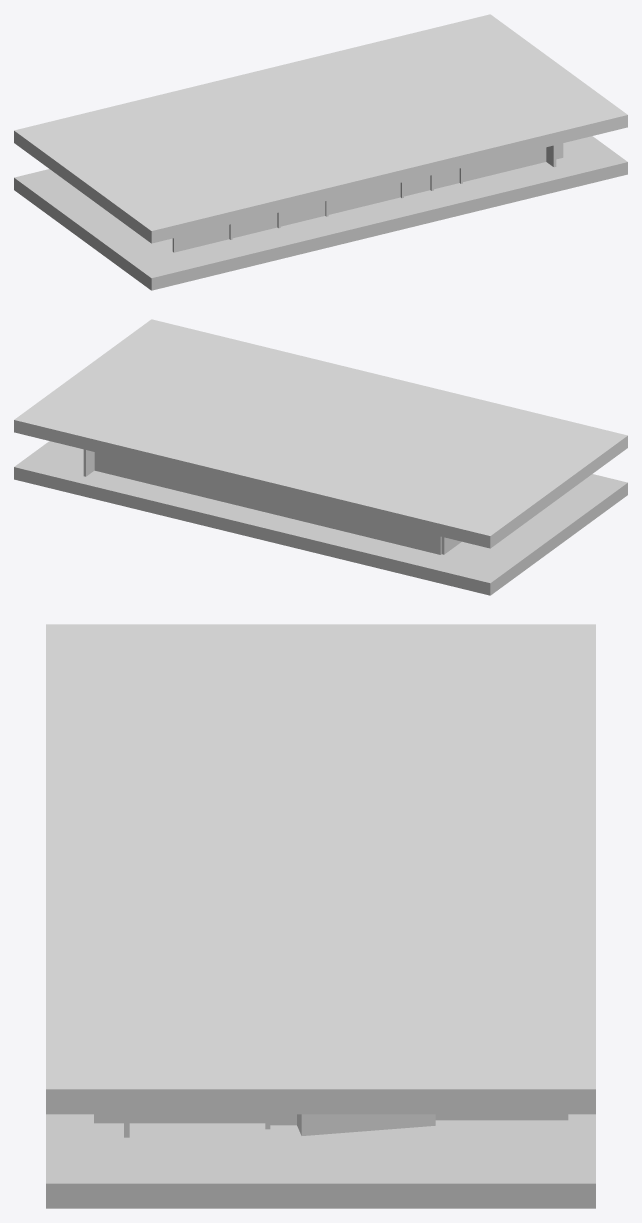
File: TheDen.glb
3 renders of one model, top to bottom at view 1: azimuth 30°, elevation 25°; view 2: azimuth 150°, elevation 25°; view 3: azimuth 270°, elevation 25°, orthographic. The views are drawn at different scales.
Visible parts, largest first — view 1: Roof, Floor, Bottom Wall; view 2: Roof, Floor, Main - Top, Theatrette - Top; view 3: Roof, Floor, Theatrette - Bottom Angled, Right wall, Theatrette - Right.
Part boxes in pixels (x1=…): Roof: x1=14, y1=14, x2=627, y2=243; Floor: x1=14, y1=136, x2=627, y2=290; Bottom Wall: x1=172, y1=143, x2=563, y2=252; Roof: x1=14, y1=319, x2=627, y2=548; Floor: x1=14, y1=441, x2=627, y2=595; Main - Top: x1=210, y1=480, x2=441, y2=554; Theatrette - Top: x1=94, y1=452, x2=210, y2=498; Roof: x1=46, y1=624, x2=595, y2=1114; Floor: x1=46, y1=1114, x2=595, y2=1208; Theatrette - Bottom Angled: x1=297, y1=1114, x2=435, y2=1135; Right wall: x1=94, y1=1114, x2=265, y2=1123; Theatrette - Right: x1=435, y1=1114, x2=568, y2=1120.
Bounding box in the file's own units: 40 × 4.78 × 20.
Materials: 68 (16 with a texture image).
